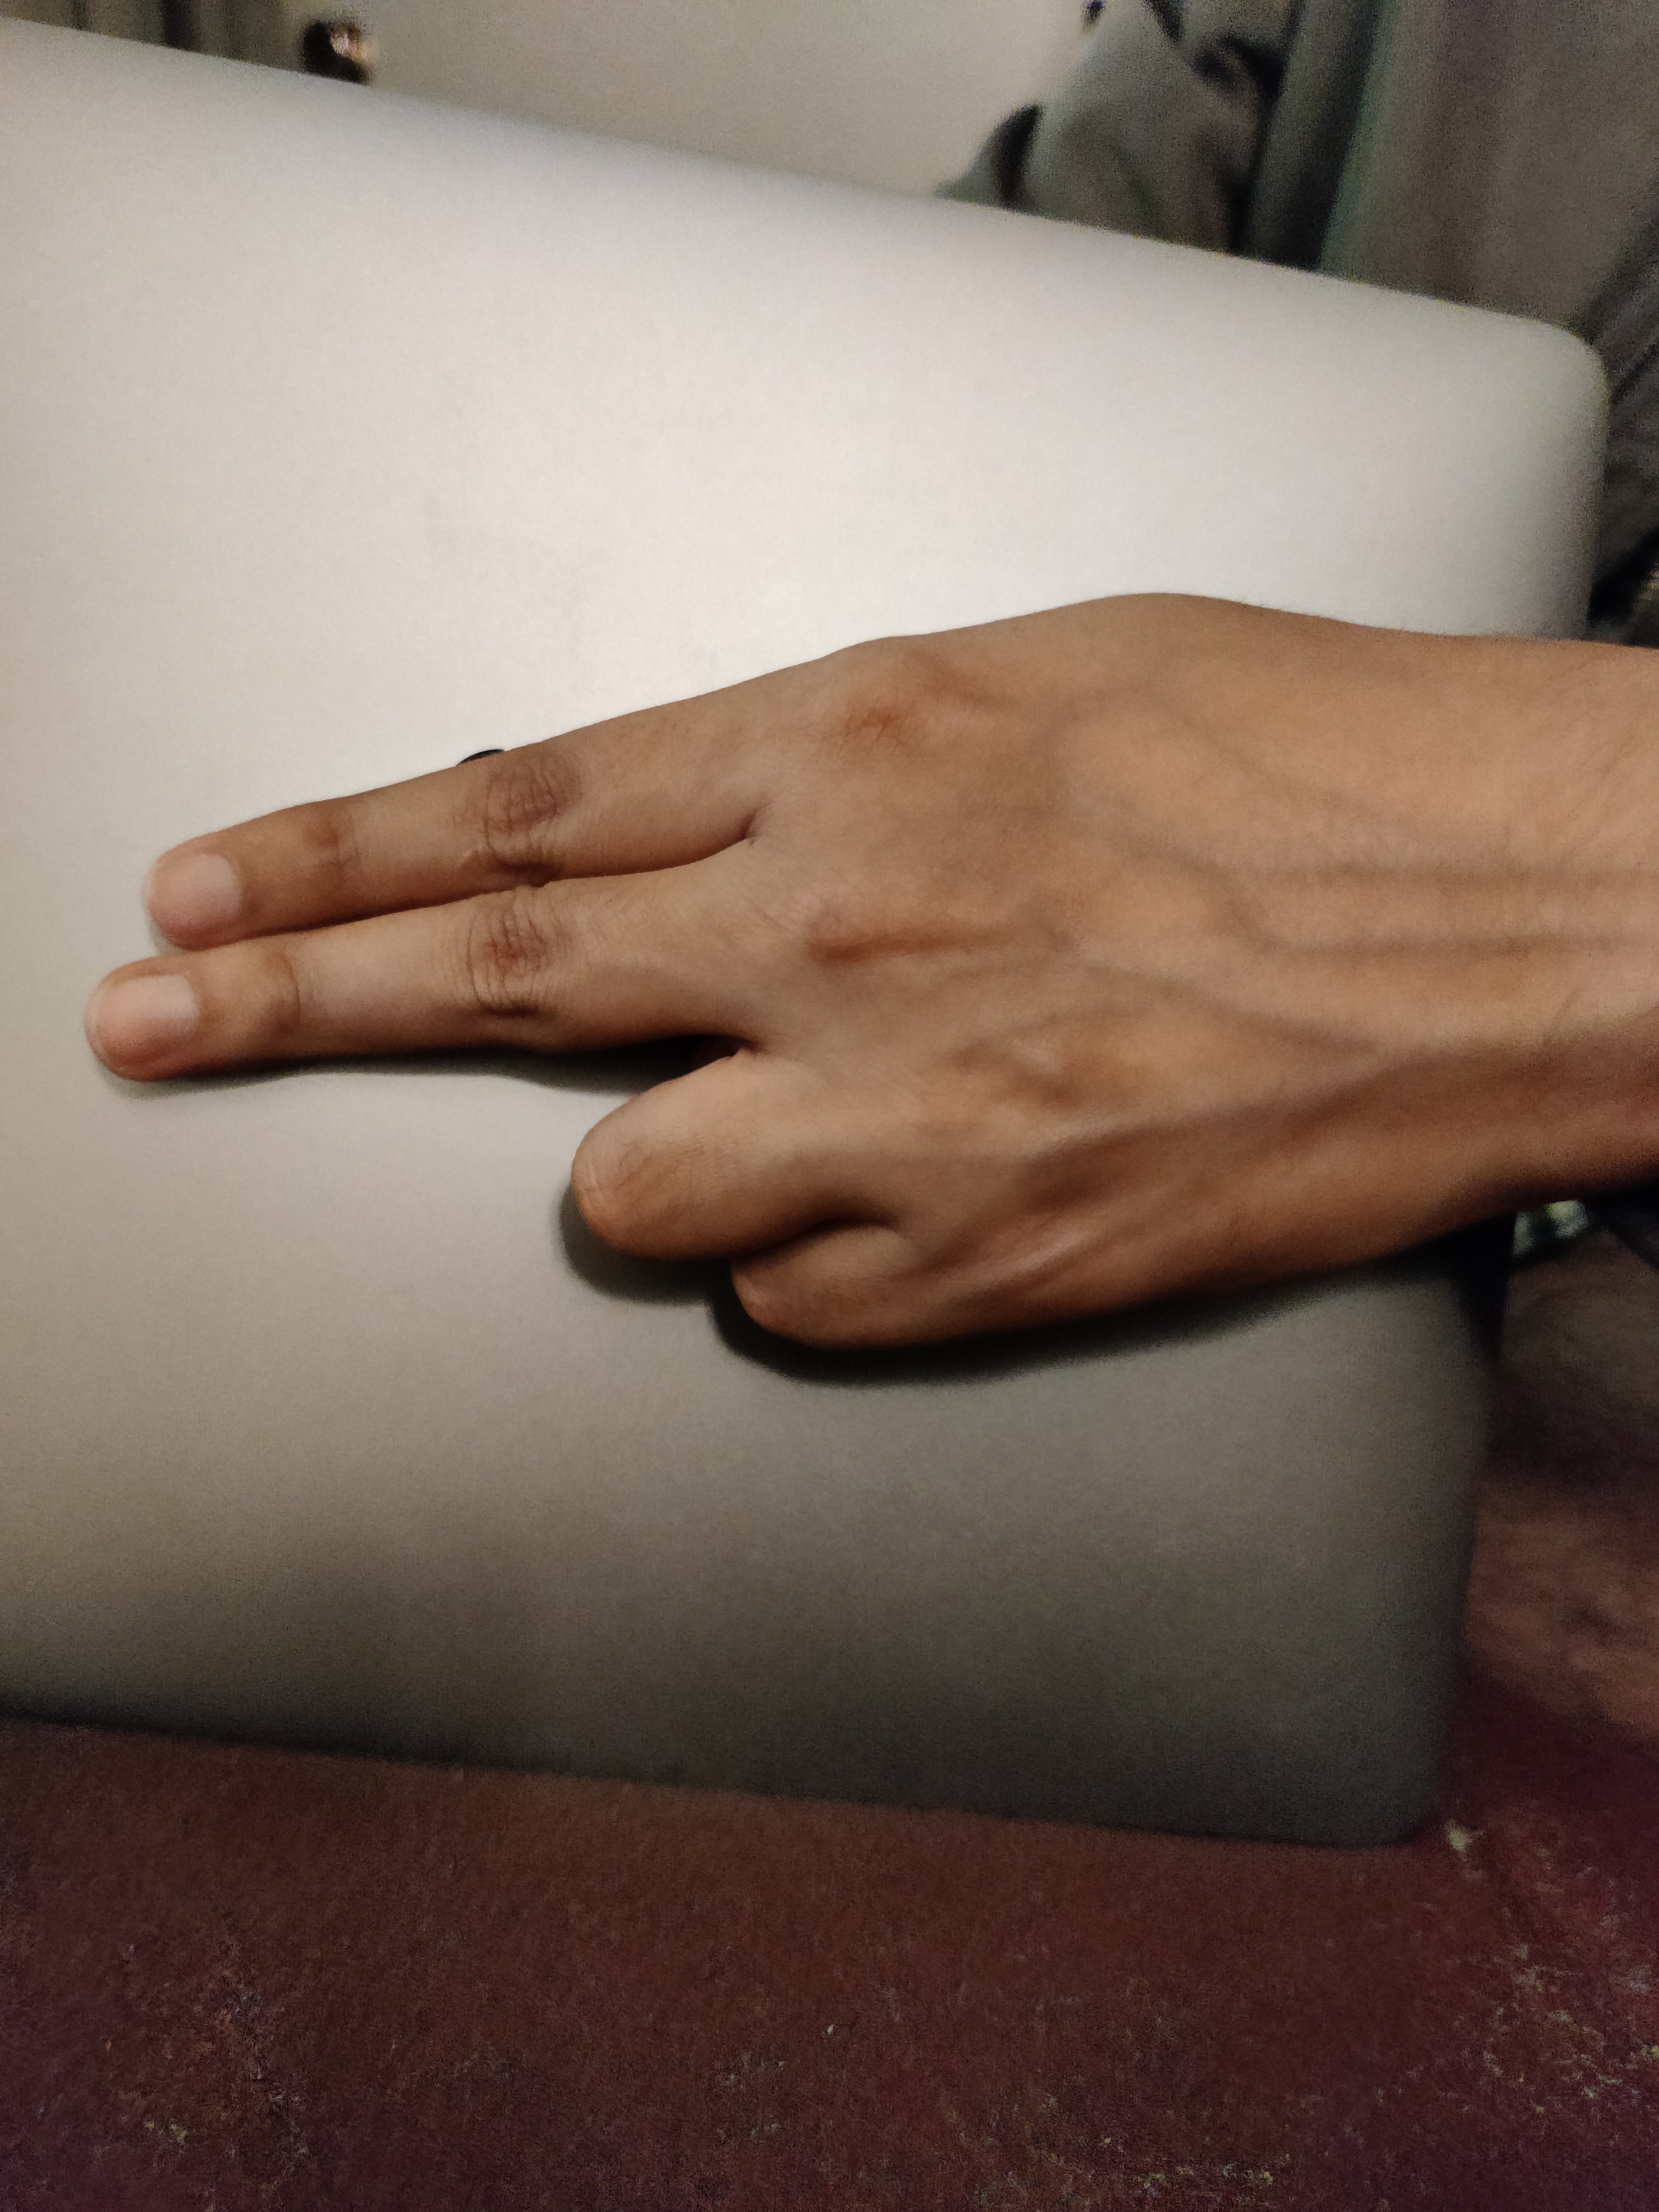right: (47, 394, 1624, 1568)
